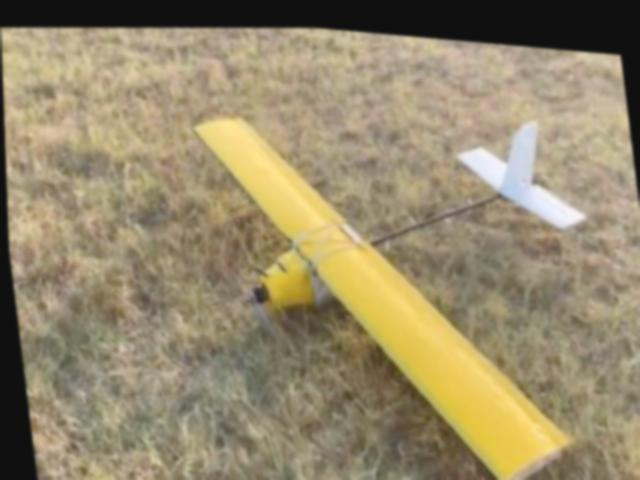uav: (187, 76, 613, 480)
